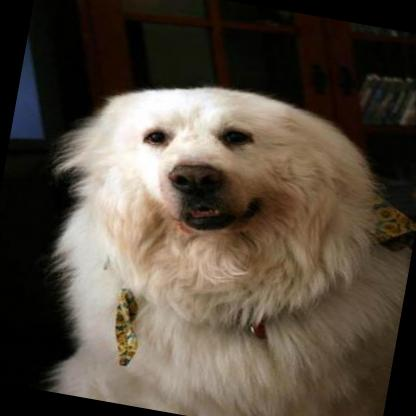Great_Pyrenees: (17, 59, 416, 416)
